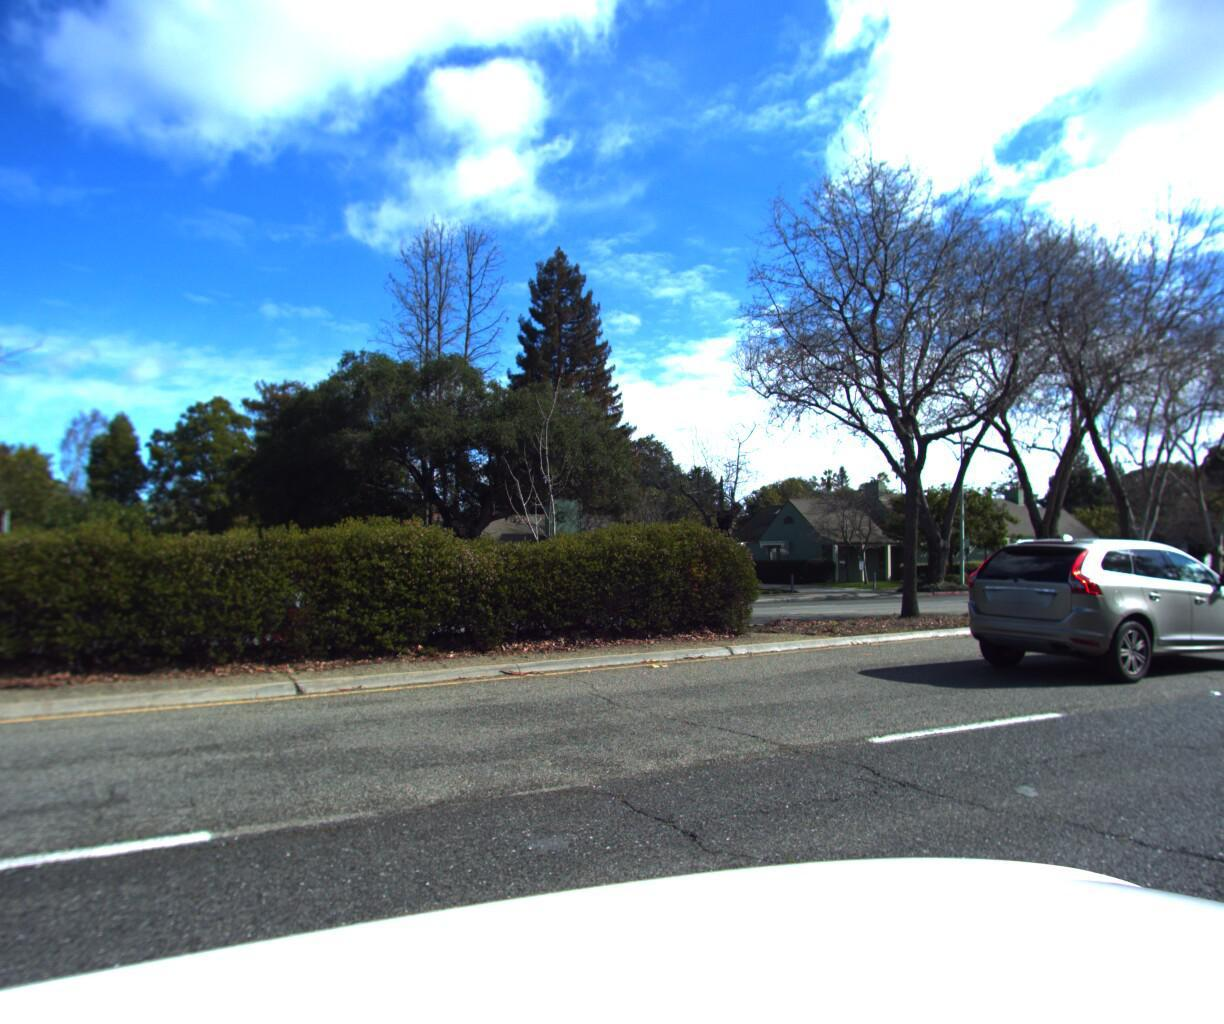car: (935, 527, 1224, 686)
